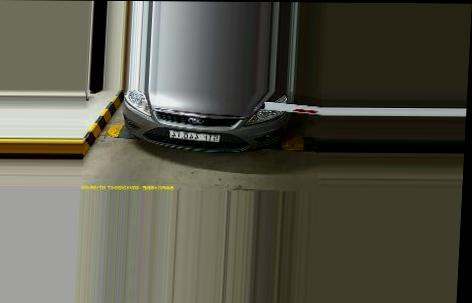License_Plate: (167, 130, 222, 144)
